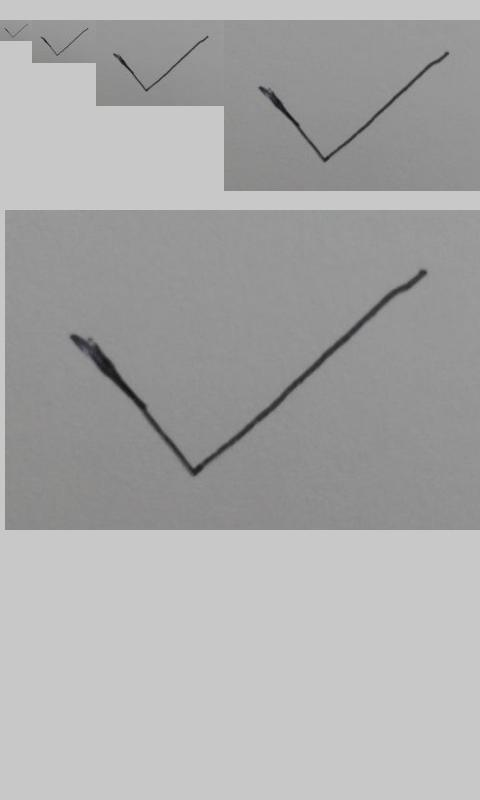check_box: (72, 269, 425, 478), (257, 52, 445, 163), (114, 35, 209, 92), (41, 28, 88, 56), (4, 24, 28, 38)
